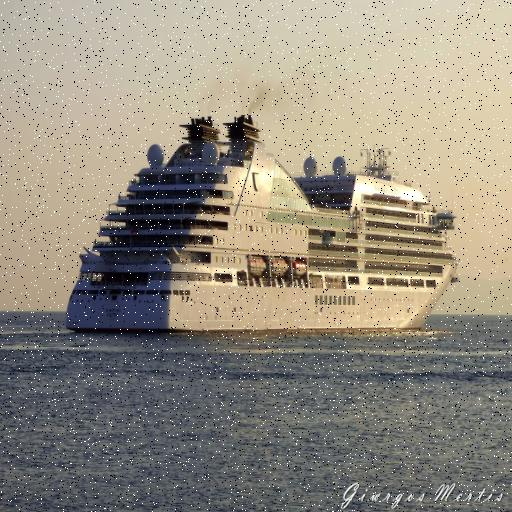cruises: (62, 105, 461, 339)
